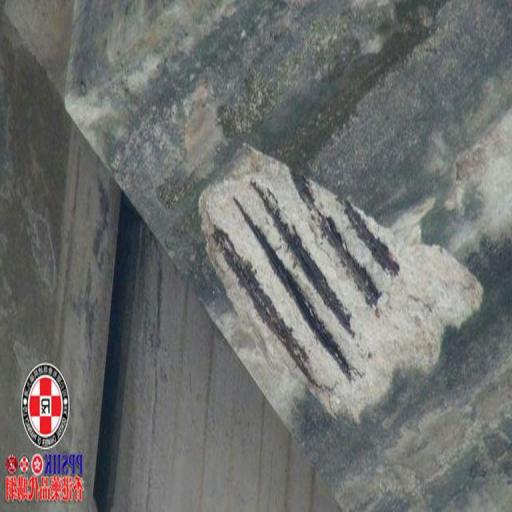spalling: (198, 147, 485, 422)
